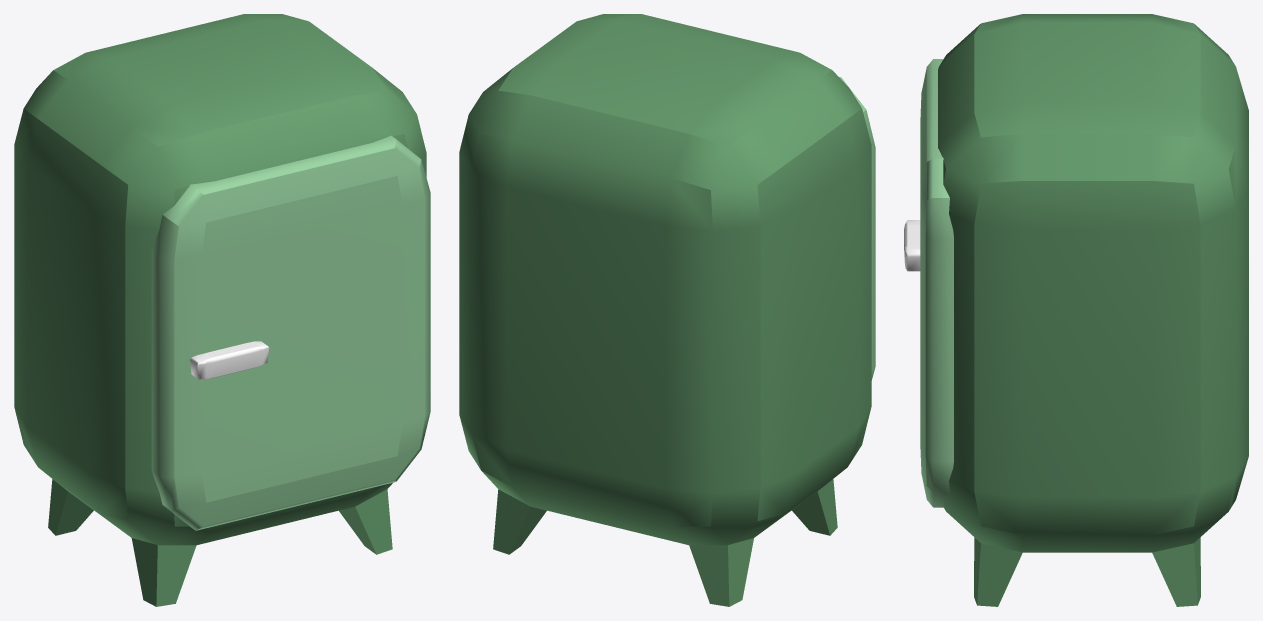
The model's file is Fridge.fbx.
3 views of the same model, side by side, from view 1: azimuth 30°, elevation 25°; view 2: azimuth 150°, elevation 25°; view 3: azimuth 270°, elevation 25° (orthographic).
Visible parts, largest first — view 1: fridge; view 2: fridge; view 3: fridge.
Part boxes in pixels (x1=…): fridge: x1=14, y1=14, x2=430, y2=606; fridge: x1=459, y1=14, x2=875, y2=606; fridge: x1=904, y1=14, x2=1248, y2=606.
Bounding box in the file's own units: 43.84 × 61.68 × 39.78.
